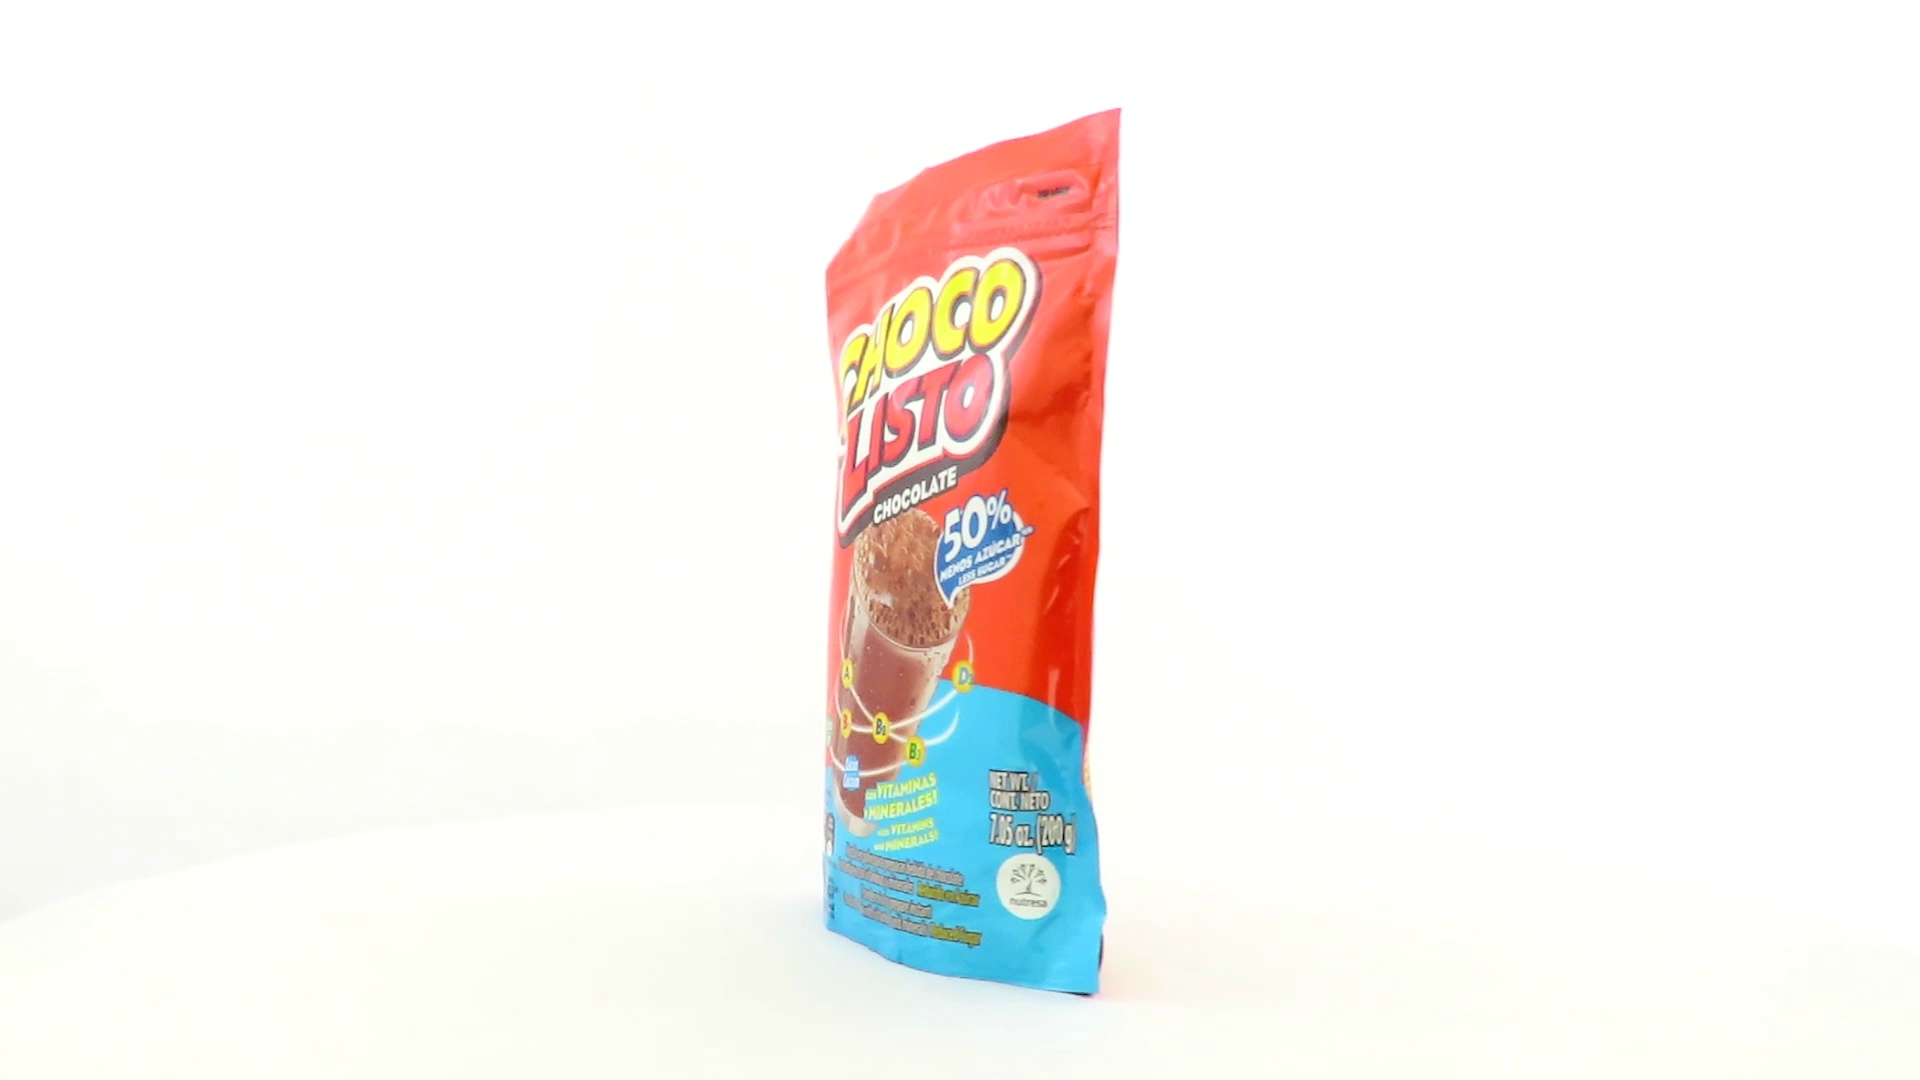COL0170104DYP20000: (818, 103, 1127, 1002)
